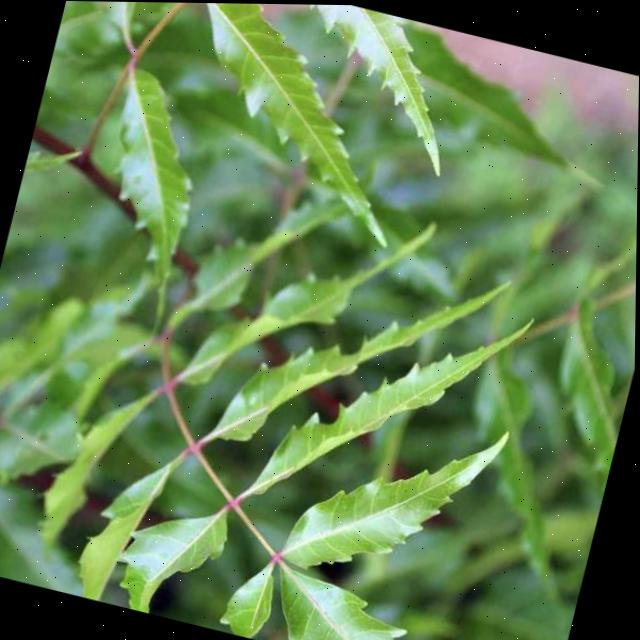Wet: (2, 134, 627, 640)
